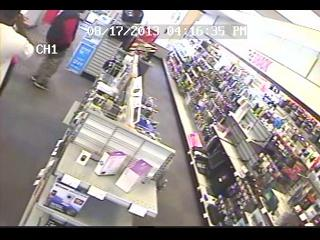Normal: (28, 11, 80, 90), (0, 10, 35, 92)
